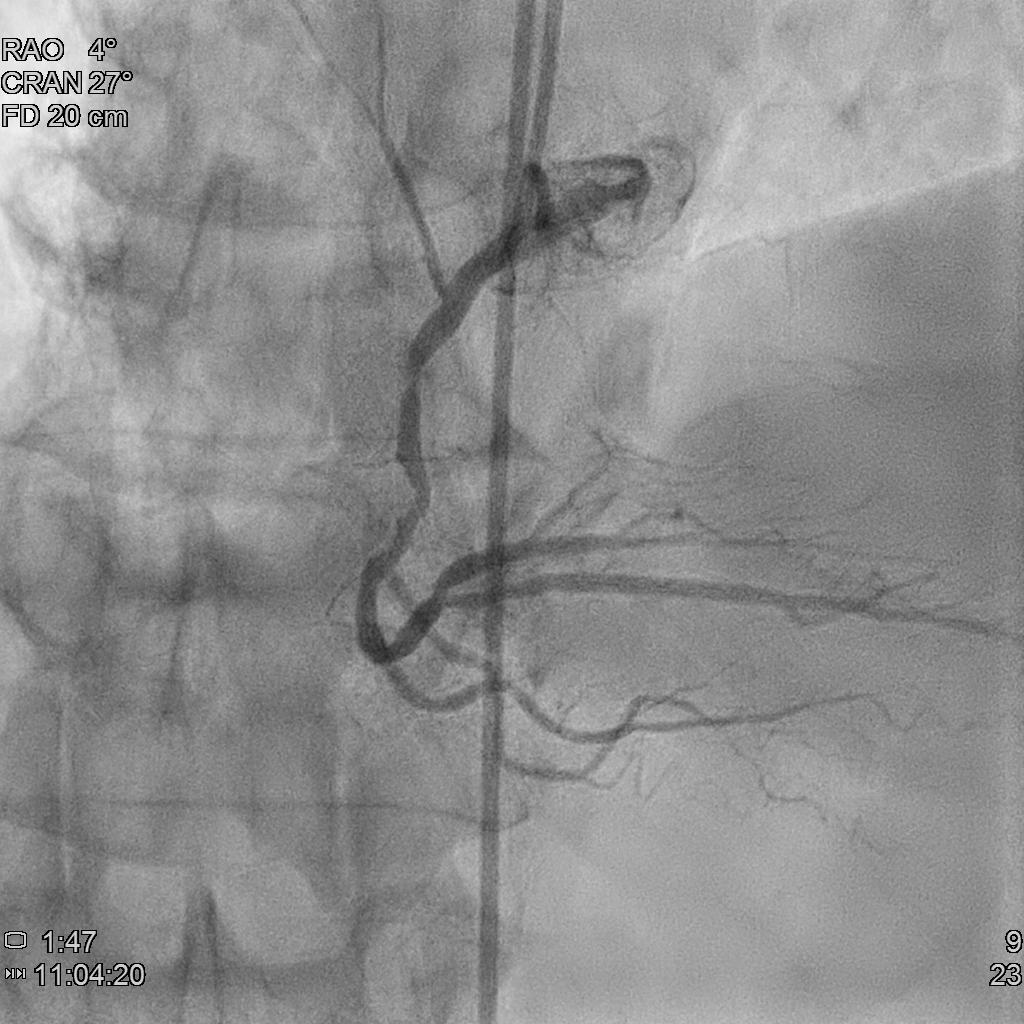block: (363, 338, 461, 422), (374, 447, 457, 527)
